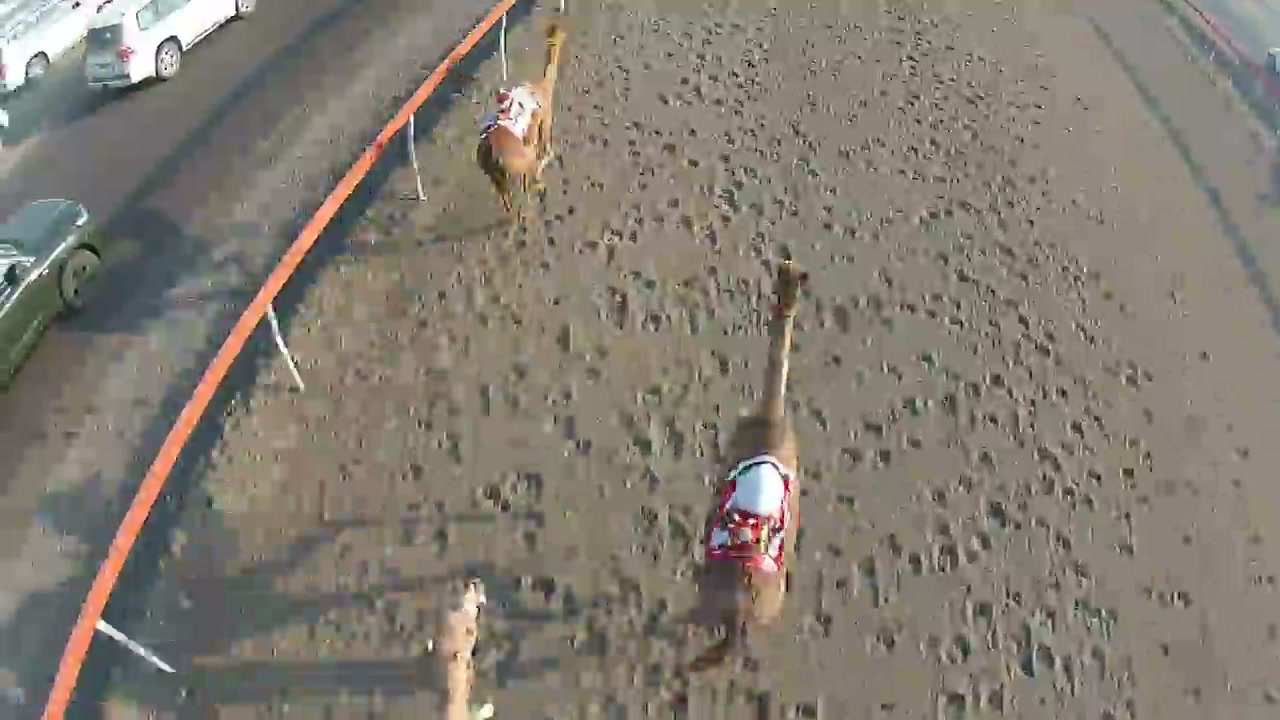animal_footprint: (779, 6, 1151, 693), (428, 35, 751, 691)
